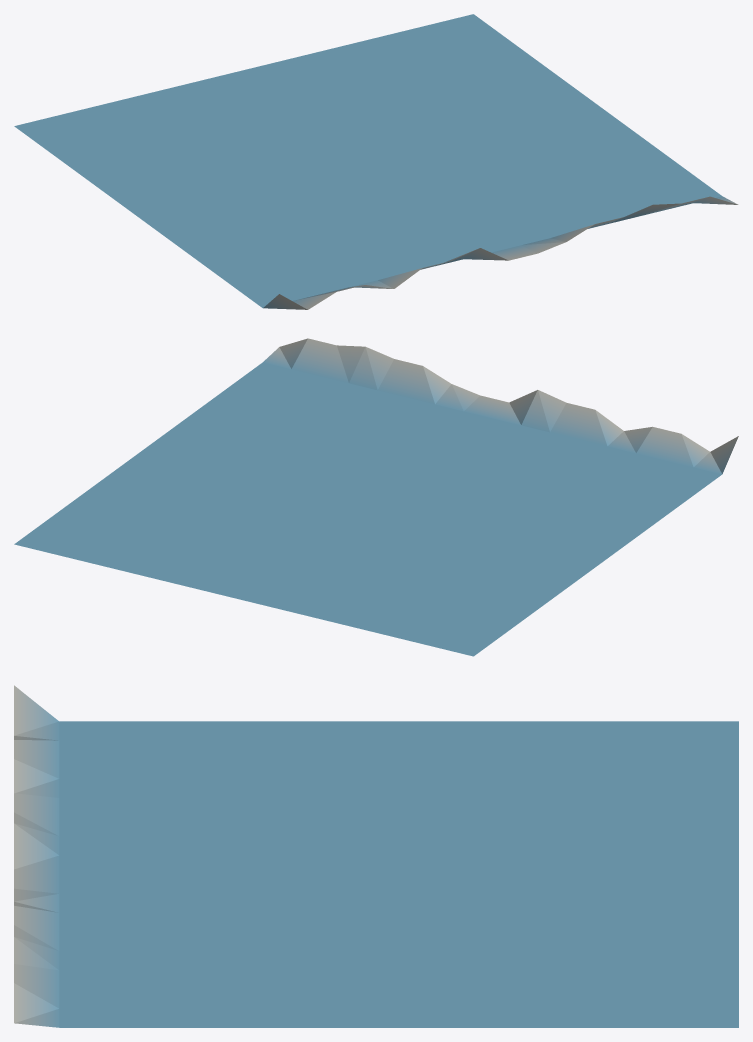
3 renders of one model, top to bottom at view 1: azimuth 30°, elevation 25°; view 2: azimuth 150°, elevation 25°; view 3: azimuth 270°, elevation 25°, orthographic. The views are drawn at different scales.
Bounding box in the file's own units: 32 × 1.77 × 32.
